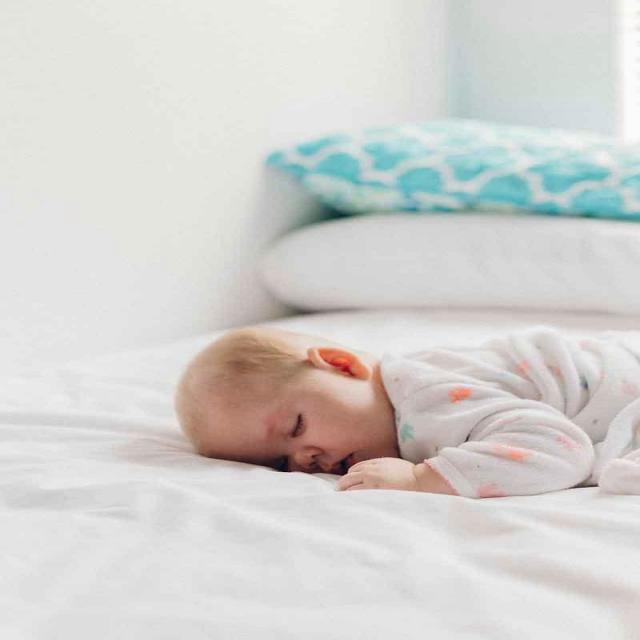child: (171, 324, 635, 502)
